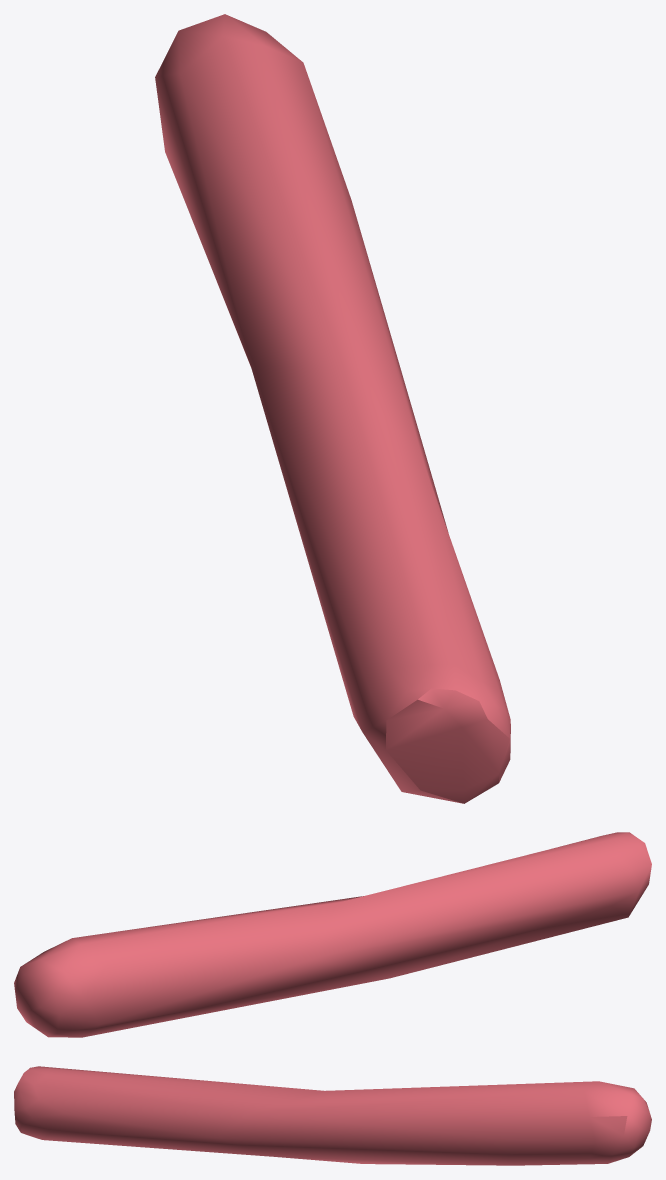
Rendered from fma8667_fj6001.glb.
3 views of the same model, one above another, from view 1: azimuth 30°, elevation 25°; view 2: azimuth 150°, elevation 25°; view 3: azimuth 270°, elevation 25° (orthographic). The views are drawn at different scales.
Parts seen in each view (by area): view 1: FMA8667_FJ6001; view 2: FMA8667_FJ6001; view 3: FMA8667_FJ6001.
Boxes of the visible parts, x1,y1,x2,y2 form: FMA8667_FJ6001: (155, 14, 510, 803); FMA8667_FJ6001: (14, 832, 651, 1037); FMA8667_FJ6001: (14, 1066, 651, 1165).
Bounding box in the file's own units: 0.0077 × 0.00419 × 0.0176.
